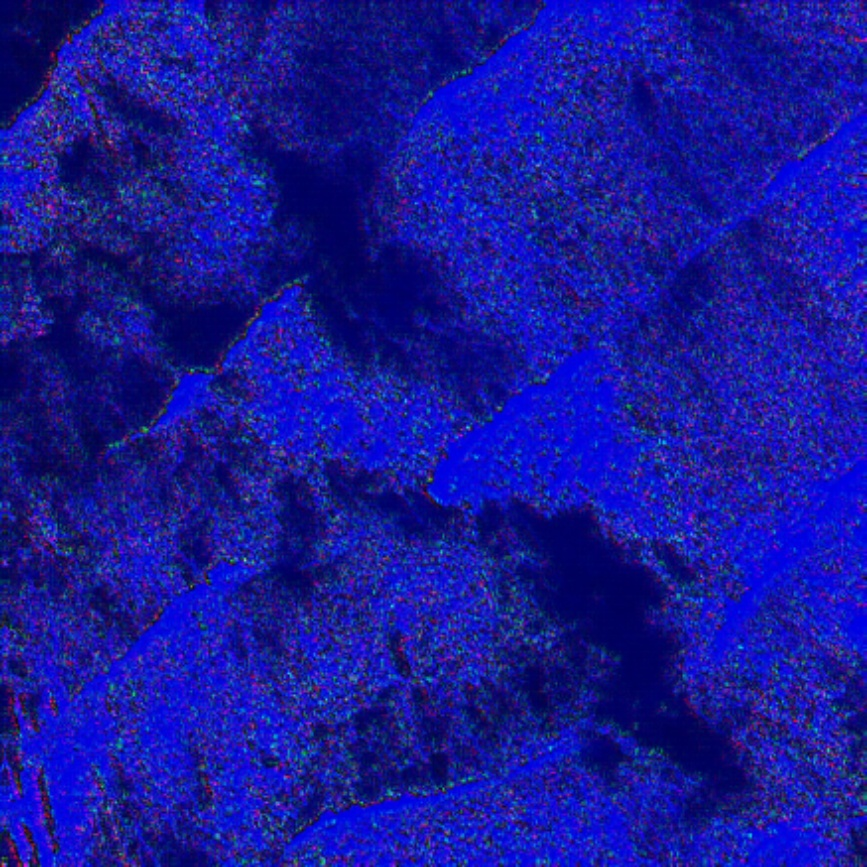rip_current: (246, 228, 775, 823)
